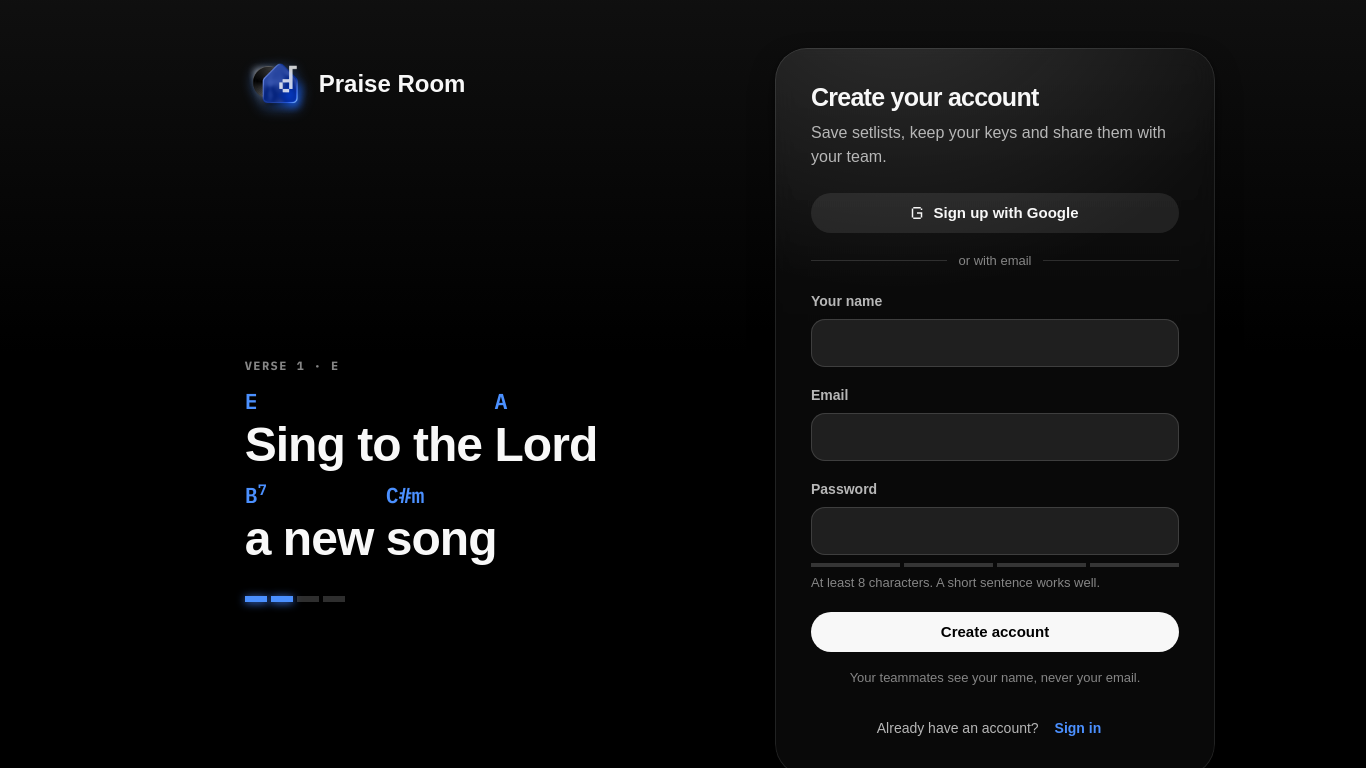
Scenario: SignUpPage › lights the strength meter hint as the password grows
expect the text "At least 8 characters. A short sentence works well." is shown: met, box [811,574,1100,590]
Type "abc" into the password field labelled "Password" at point(982, 530), box [825,506,1139,554]
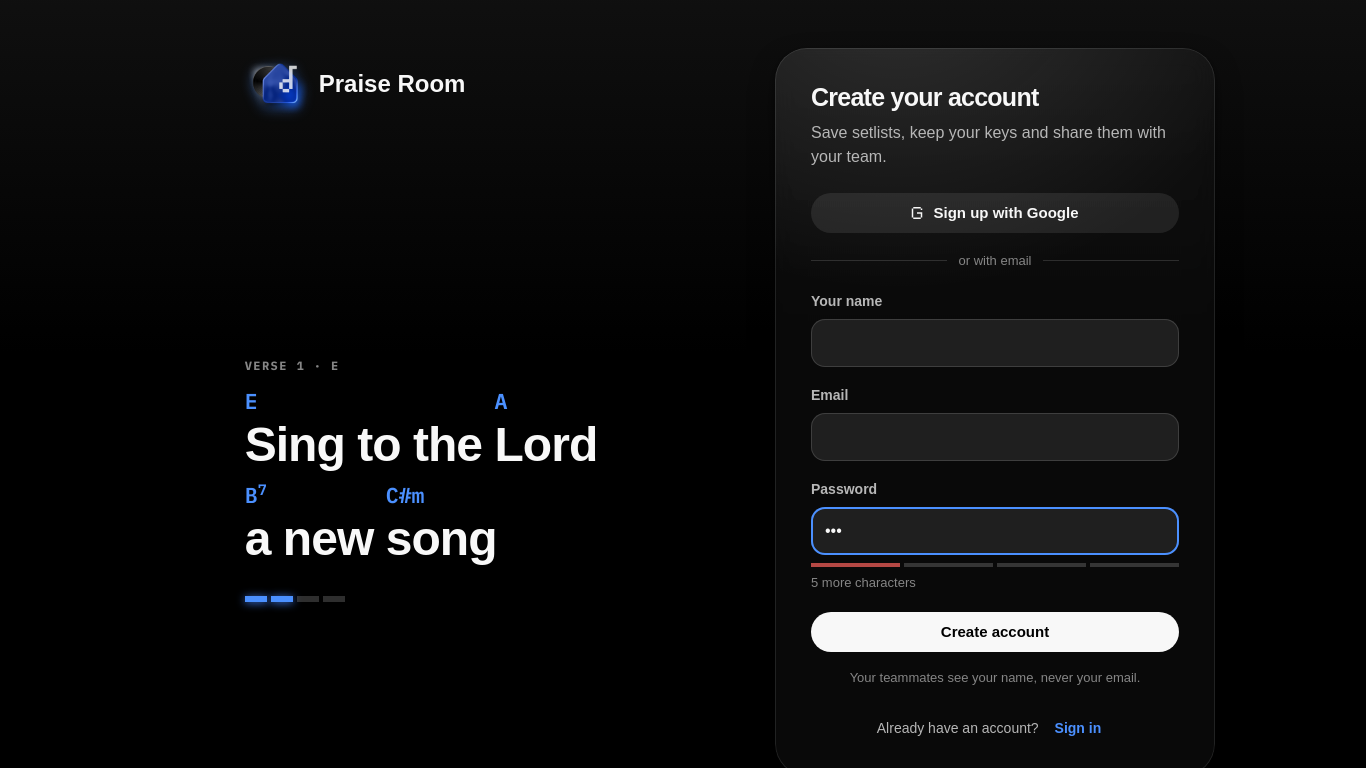
expect the text "5 more characters" is shown: met, box [811,574,916,590]
Type "a short sentence" into the password field labelled "Password" at point(982, 530), box [825,506,1139,554]
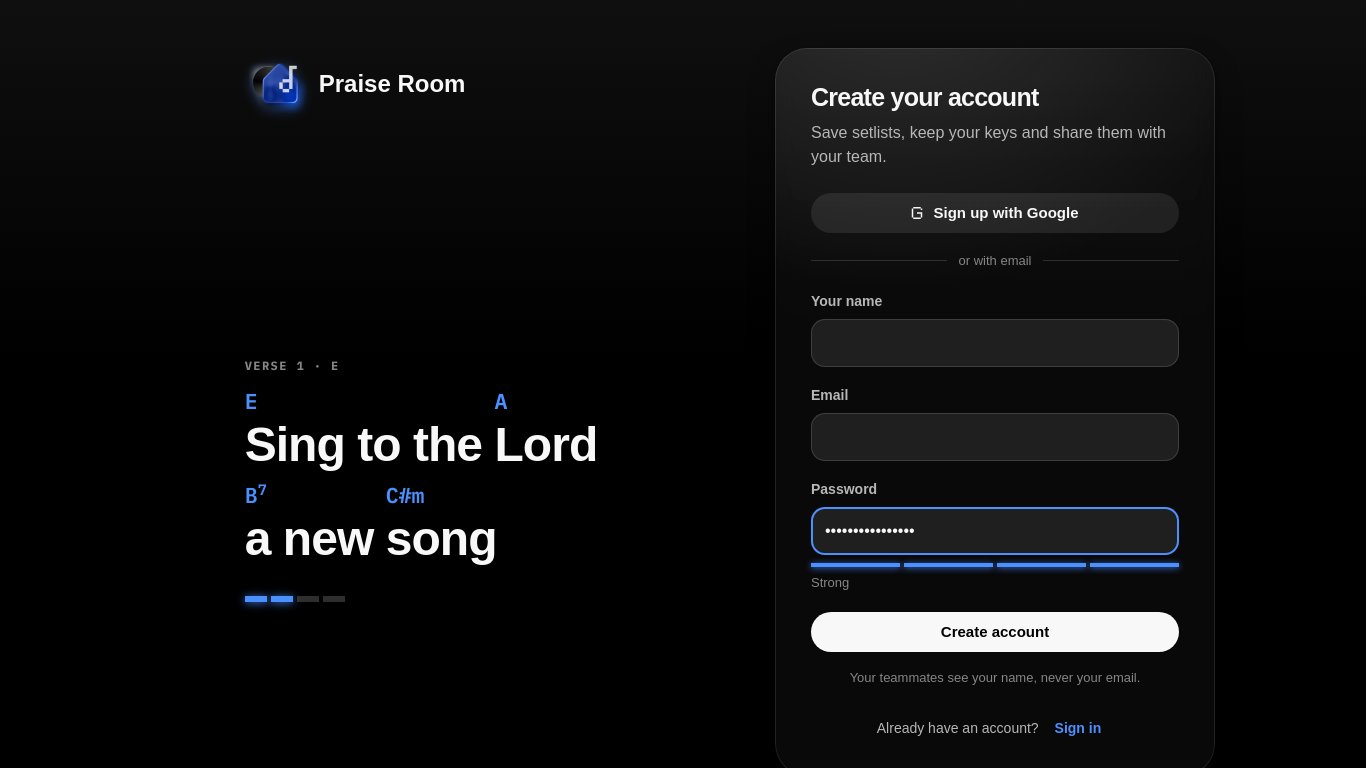
expect the text "Strong" is shown: met, box [811,574,849,590]
